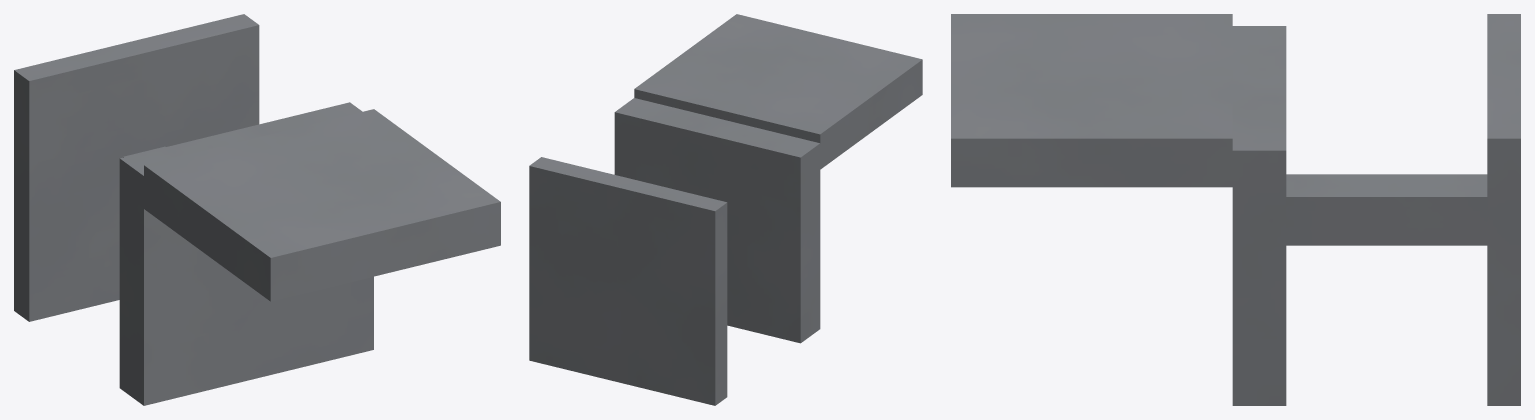
Rendered from crew_chair.glb.
The picture shows the model from 3 angles, left to right: view 1: azimuth 30°, elevation 25°; view 2: azimuth 150°, elevation 25°; view 3: azimuth 270°, elevation 25°; orthographic projection. The views are drawn at different scales.
Parts seen in each view (by area): view 1: decor_crew_chair_baked; view 2: decor_crew_chair_baked; view 3: decor_crew_chair_baked.
Boxes of the visible parts, x1,y1,x2,y2 form: decor_crew_chair_baked: (14, 14, 500, 405); decor_crew_chair_baked: (529, 14, 922, 405); decor_crew_chair_baked: (951, 14, 1520, 405).
Bounding box in the file's own units: 0.44 × 0.44 × 0.85.
Materials: 1 (1 with a texture image).
